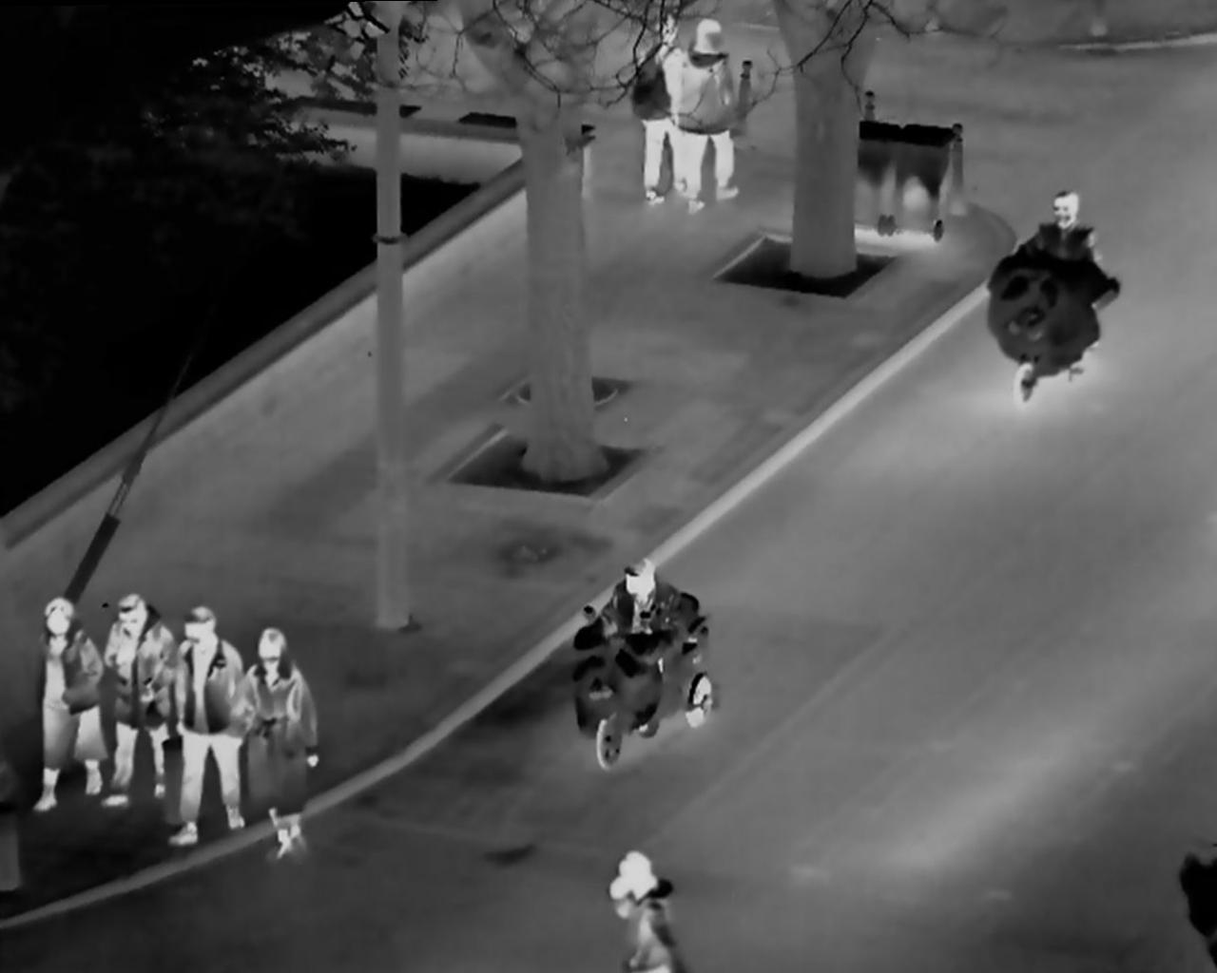person: (564, 548, 698, 736), (241, 610, 326, 861), (1013, 166, 1112, 369), (165, 590, 239, 849), (94, 576, 171, 812), (26, 581, 106, 806), (589, 828, 696, 973), (623, 9, 700, 208), (674, 12, 744, 216)
